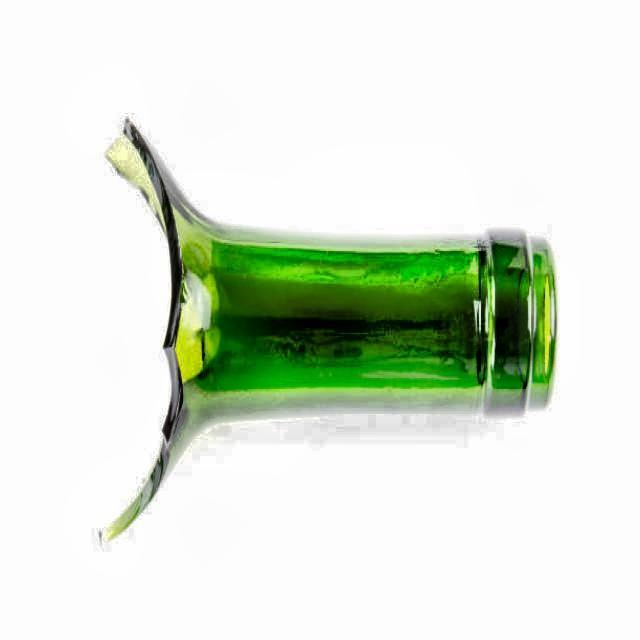glass: (104, 120, 560, 542)
